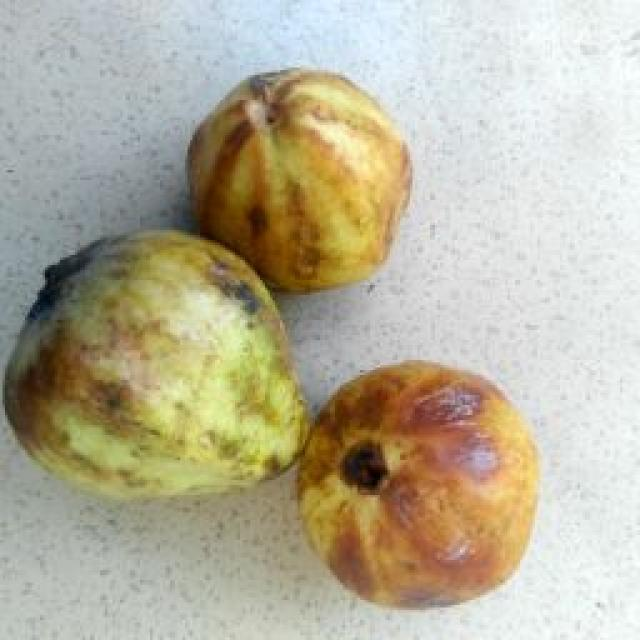Bad_Guava: (5, 231, 309, 498), (299, 361, 539, 606), (188, 69, 411, 291)
